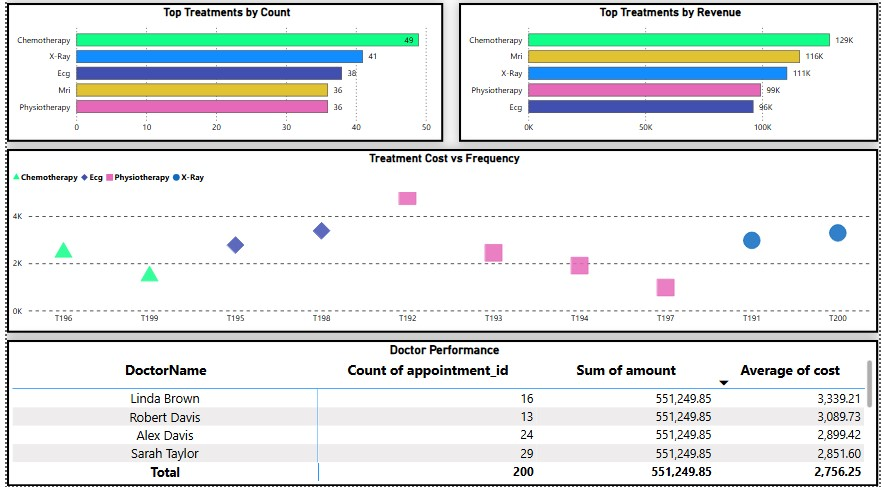

Layout of this report page (visuals, bound fields, positions):
{"tool":"powerbi","page":{"name":"Treatments","canvas":[1280,720],"ordinal":3},"visuals":[{"type":"barChart","title":"Top Treatments by Count","fields":{"Category":["treatments.treatment_type"],"Y":["CountNonNull(treatments.treatment_id)"]},"box":[0,10.3,640.7,204.2],"z":0},{"type":"barChart","title":"Top Treatments by Revenue","fields":{"Category":["treatments.treatment_type"],"Y":["Sum(treatments.cost)"]},"box":[664.2,10.3,615.7,204.2],"z":1000},{"type":"scatterChart","title":"Treatment Cost vs Frequency","fields":{"X":["treatments.treatment_id"],"Y":["Sum(treatments.cost)"],"Size":["CountNonNull(treatments.treatment_id)"],"Series":["treatments.treatment_type"]},"box":[0,224.8,1279.8,270.4],"z":2000},{"type":"pivotTable","title":"Doctor Performance","fields":{"Rows":["doctors.DoctorName"],"Values":["CountNonNull(appointments.appointment_id)","Sum(billing.amount)","Avg(treatments.cost)"]},"box":[0,505,1280,215],"z":3000}]}

Visuals, with their boxes in screenshot pixels (x1, y1, x2, y2), scaled from the page's 1280x720 canvas onto the 884x487 screenshot:
"Top Treatments by Count" barChart: left=0, top=7, right=442, bottom=145
"Top Treatments by Revenue" barChart: left=459, top=7, right=883, bottom=145
"Treatment Cost vs Frequency" scatterChart: left=0, top=152, right=883, bottom=335
"Doctor Performance" pivotTable: left=0, top=342, right=883, bottom=486
